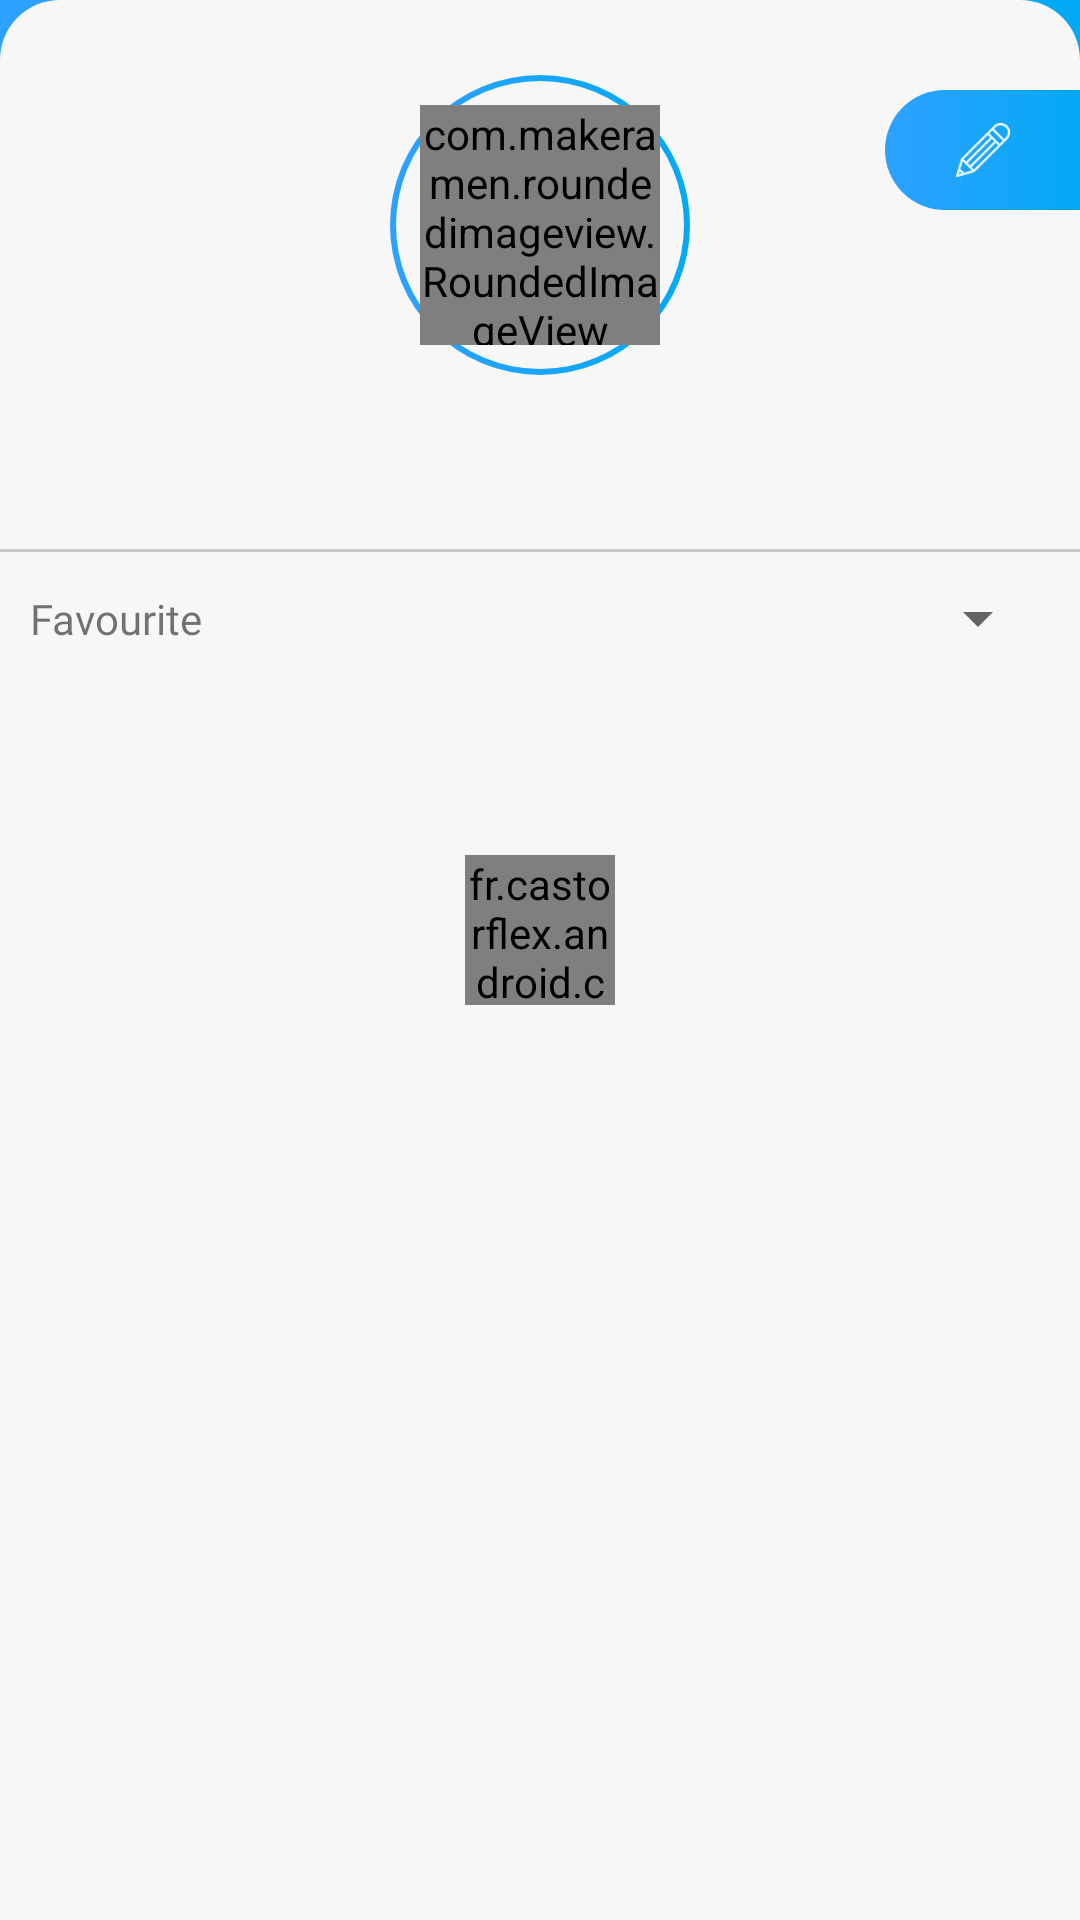

Where to tap for icons on this 1080×1920 app screen, as (x,y):
edit: (983,150)
